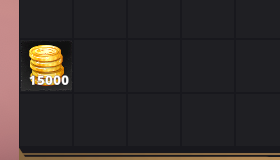gold: (22, 41, 73, 90)
